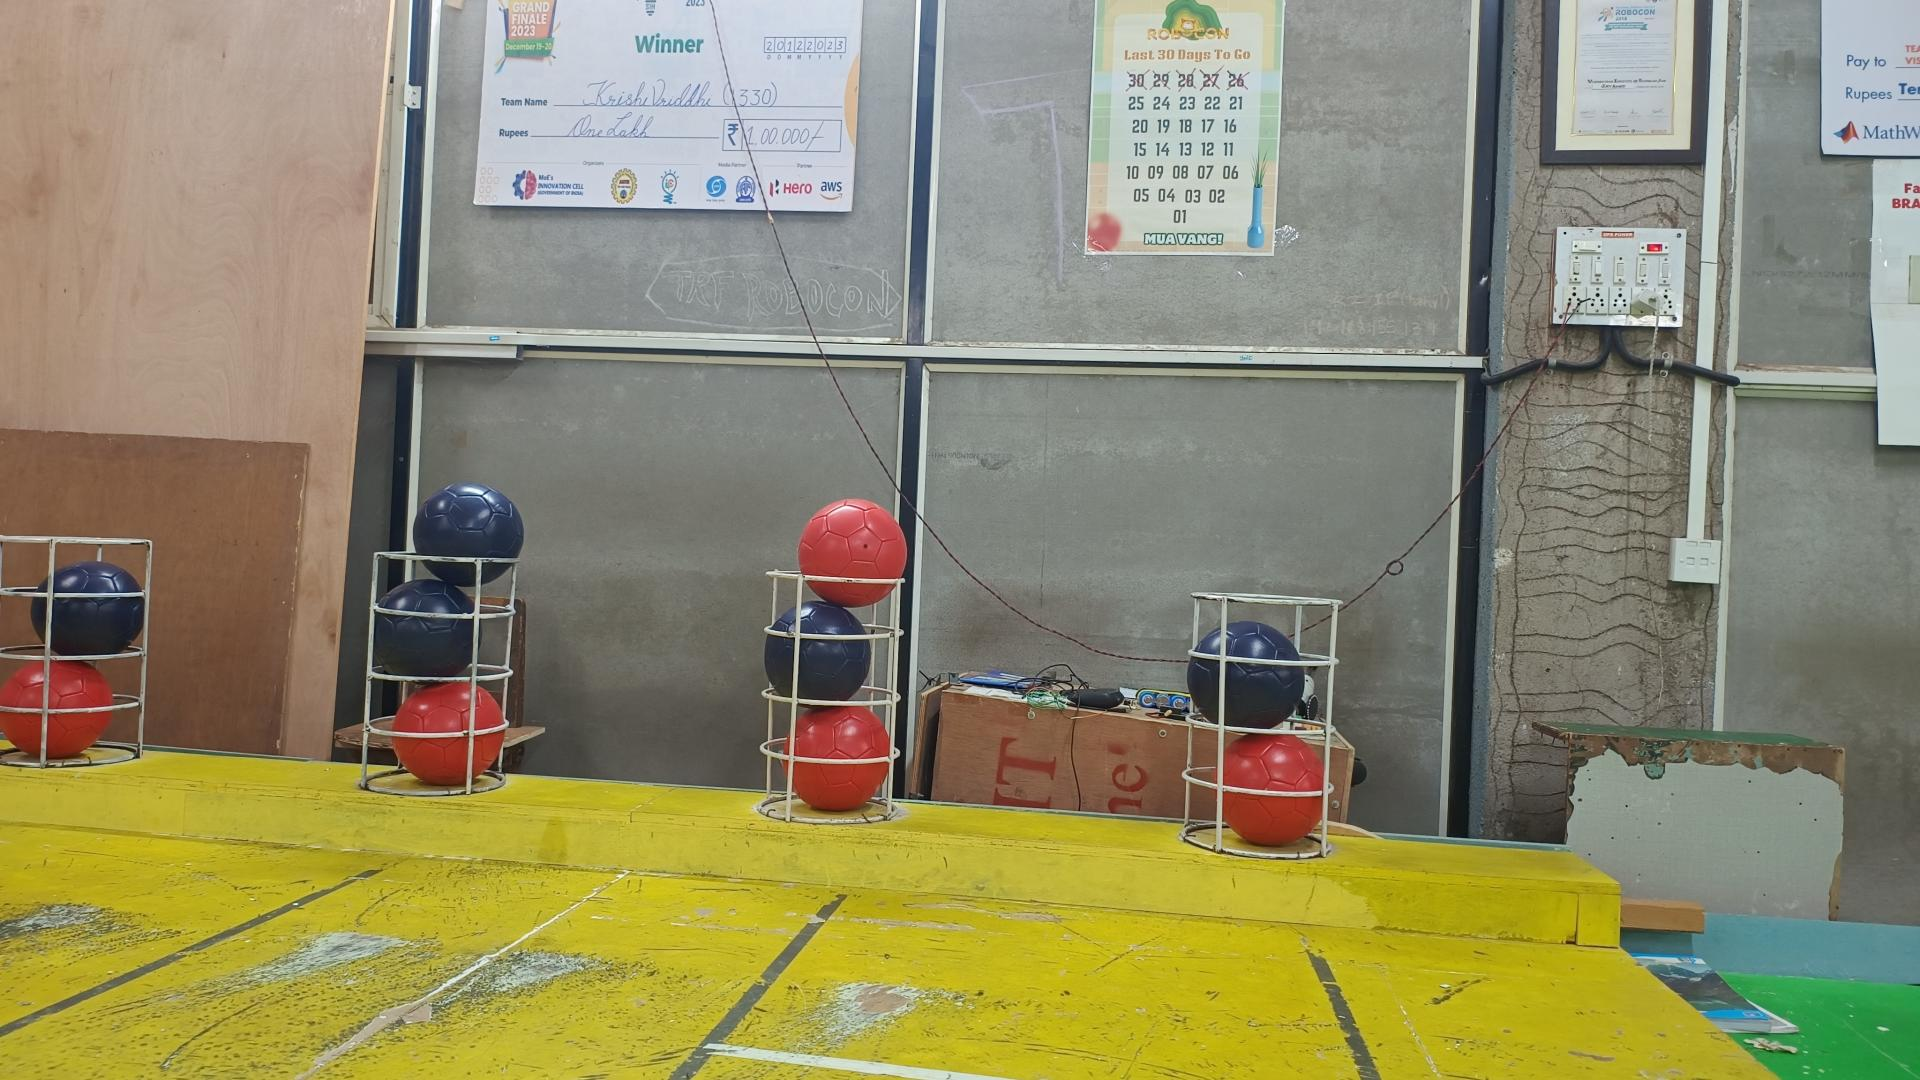dhoka: (1189, 618, 1305, 731), (413, 484, 525, 589), (764, 600, 873, 702), (368, 580, 480, 678), (30, 563, 146, 657)
laale: (1215, 735, 1324, 848), (796, 497, 905, 607), (397, 682, 509, 787), (785, 705, 893, 810), (0, 657, 108, 758)
